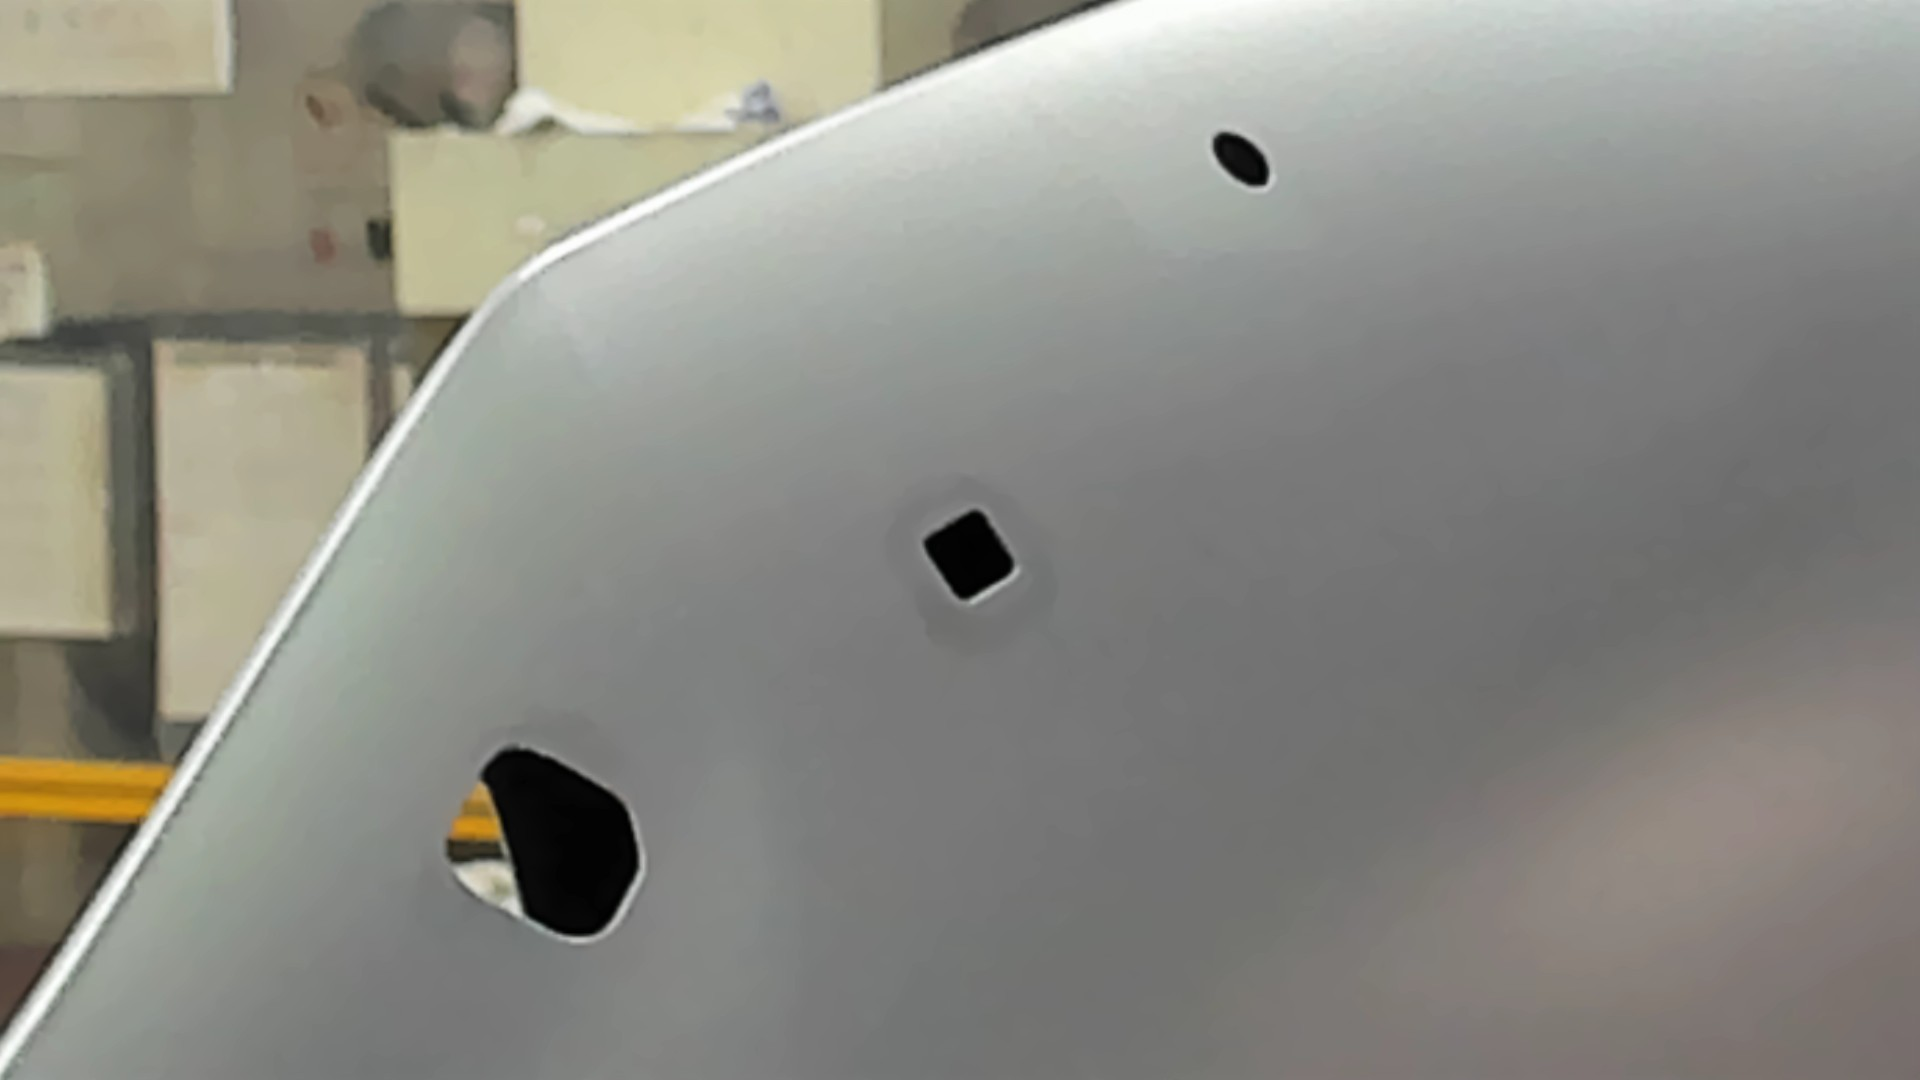chico: (1207, 123, 1276, 196)
grande: (436, 738, 647, 951)
mediano: (911, 502, 1019, 609)
